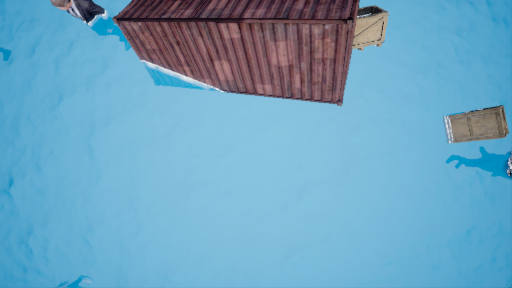person: (50, 1, 123, 51)
